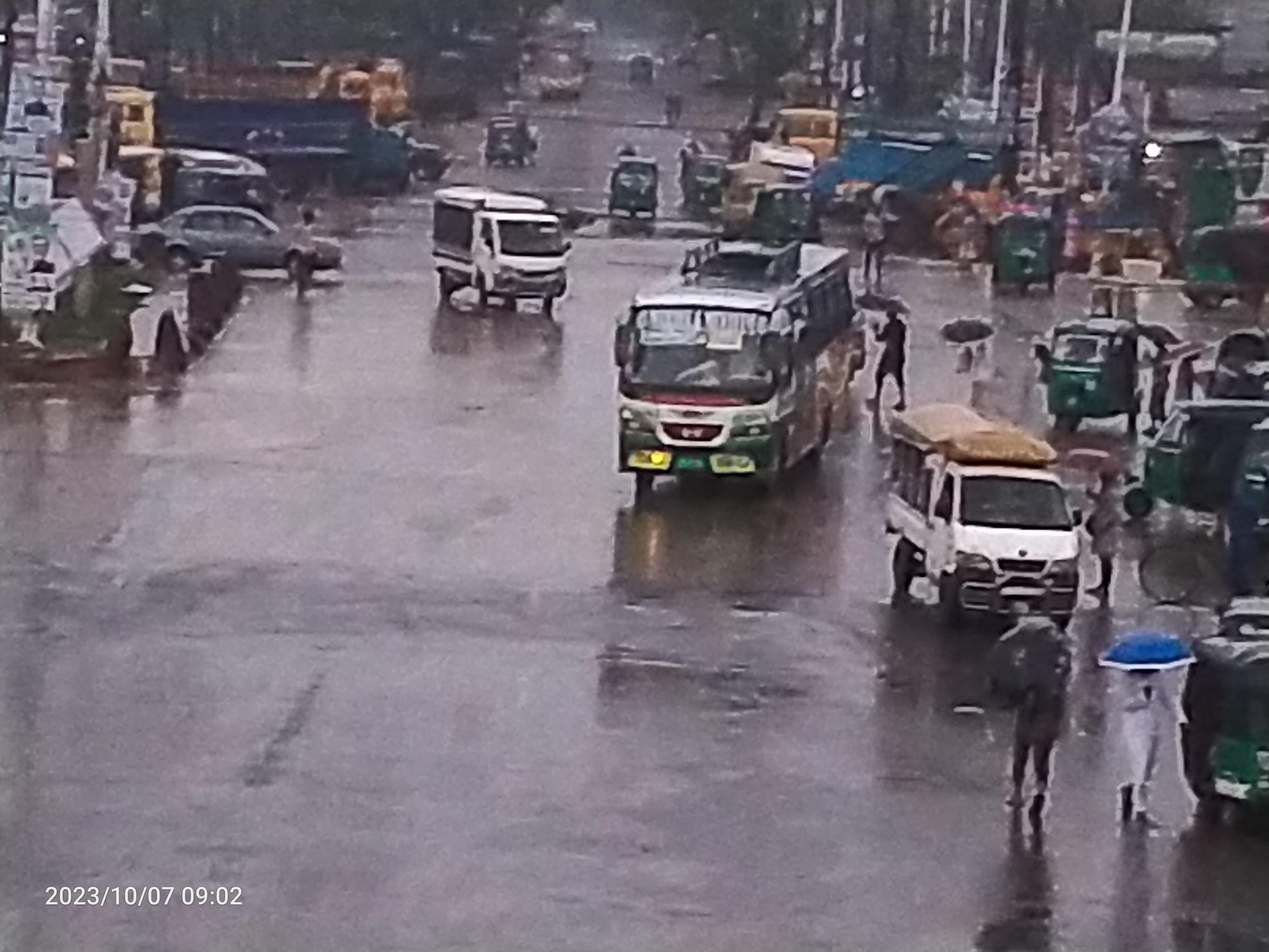Bus: (580, 220, 904, 556)
Car: (867, 380, 1088, 658), (418, 161, 583, 332), (125, 198, 370, 288)
Truck: (57, 71, 391, 201)
